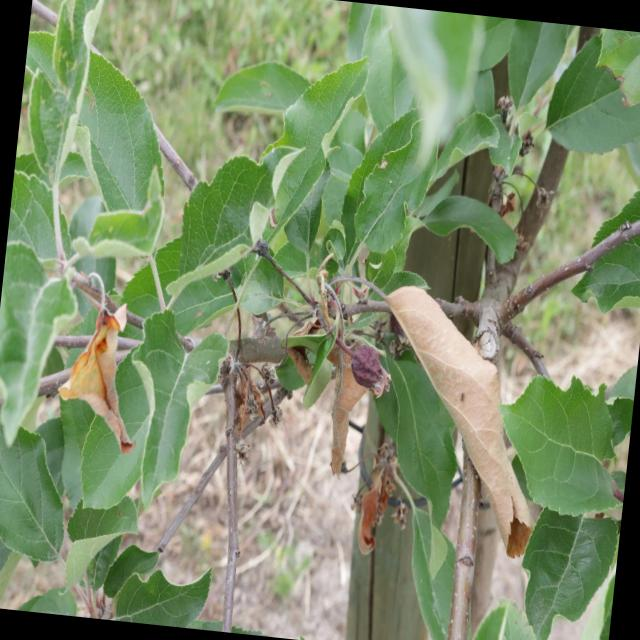-FireBlight-: (282, 268, 416, 562), (56, 268, 153, 452)
